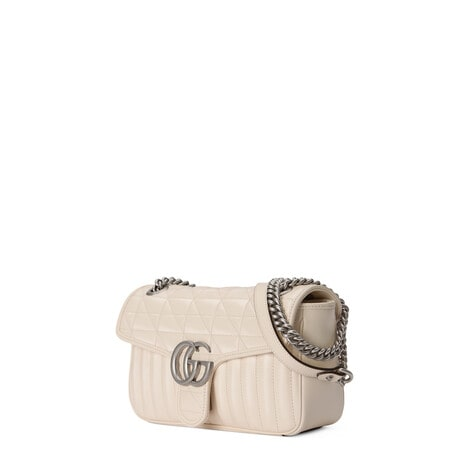Gucci: (127, 271, 344, 439), (170, 336, 225, 388)
